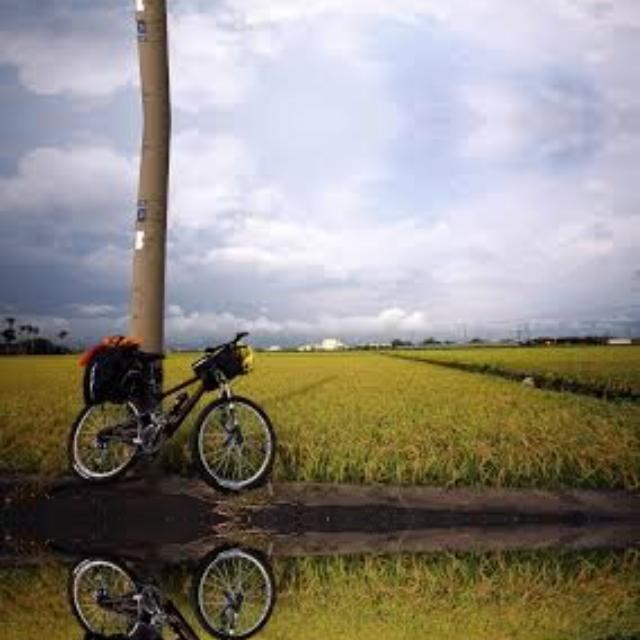obstacle: (52, 326, 308, 510), (52, 528, 307, 640)
